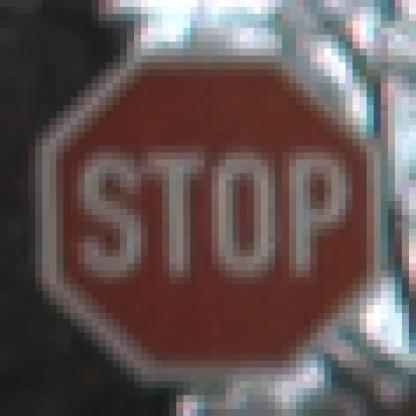Stop: (47, 55, 377, 376)
